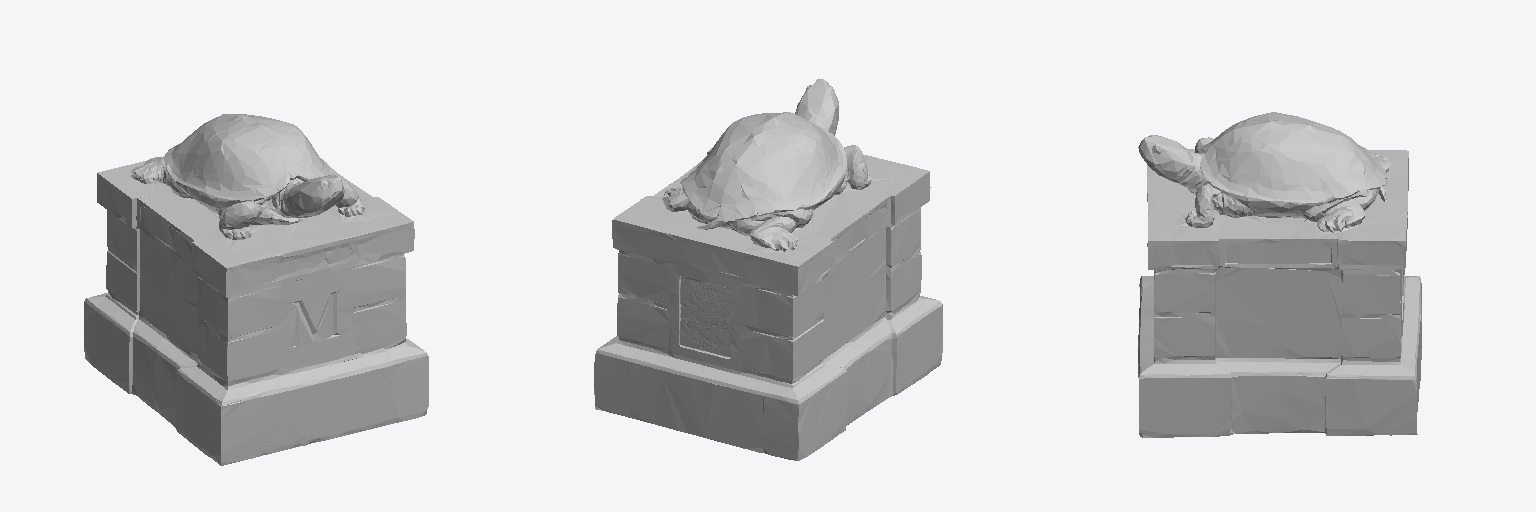
The model's file is testudo_lowPoly2.obj.
3 renders of one model, left to right at view 1: azimuth 30°, elevation 25°; view 2: azimuth 150°, elevation 25°; view 3: azimuth 270°, elevation 25°, orthographic.
Parts seen in each view (by area): view 1: Bad903Bcb8A141E08Ed1B2Acbcd44008; view 2: Bad903Bcb8A141E08Ed1B2Acbcd44008; view 3: Bad903Bcb8A141E08Ed1B2Acbcd44008.
Part boxes in pixels (x1,y1,x2,y2): Bad903Bcb8A141E08Ed1B2Acbcd44008: (84,114,428,465); Bad903Bcb8A141E08Ed1B2Acbcd44008: (594,79,942,460); Bad903Bcb8A141E08Ed1B2Acbcd44008: (1138,112,1421,437).
Size of the model in its own units: 1.71 by 2.08 by 1.99.